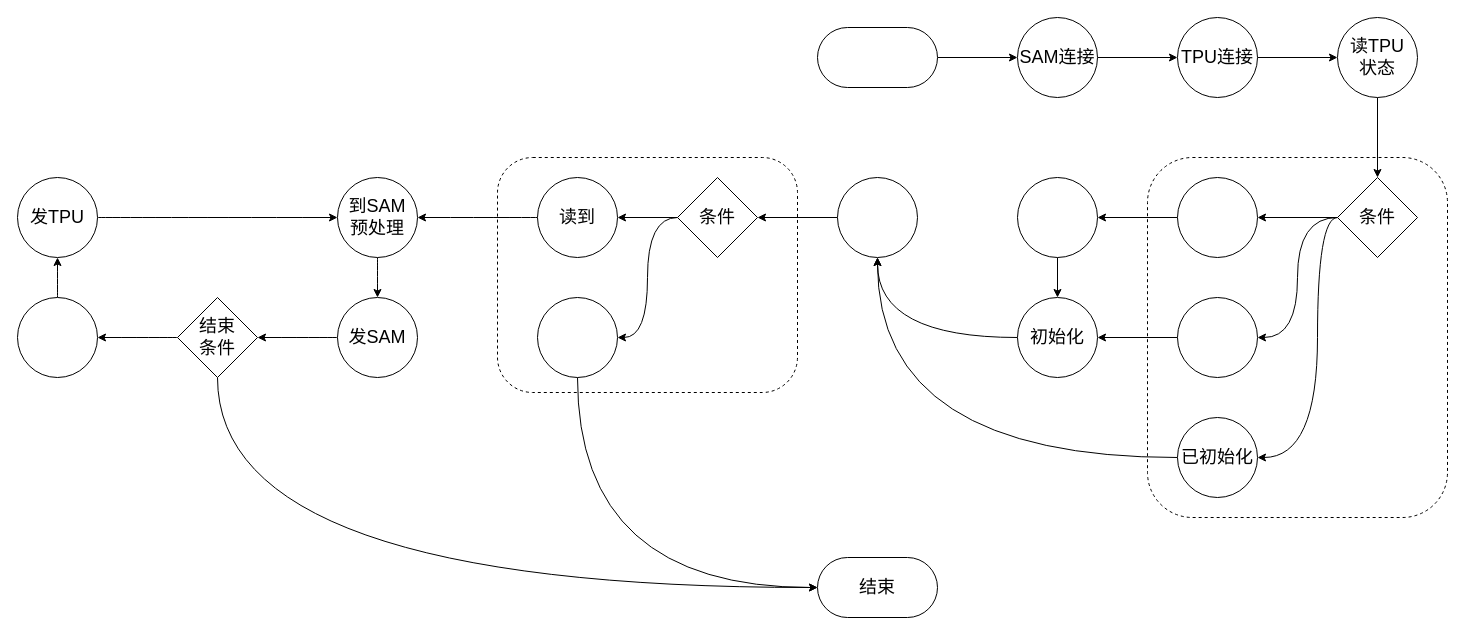
The diagram is 1465 pixels wide and 635 high, and some of its shapes have lost their labels. The shapes that lost their labels are listed below. From the top down, each one's centre as x and y in pixels, then its label:
At (x=877, y=57): "开始".
At (x=877, y=217): "读B".
At (x=1057, y=217): "复位".
At (x=1217, y=217): "未复位".
At (x=57, y=337): "到TPU 预处理".
At (x=577, y=337): "超时".
At (x=1217, y=337): "未初始化".
